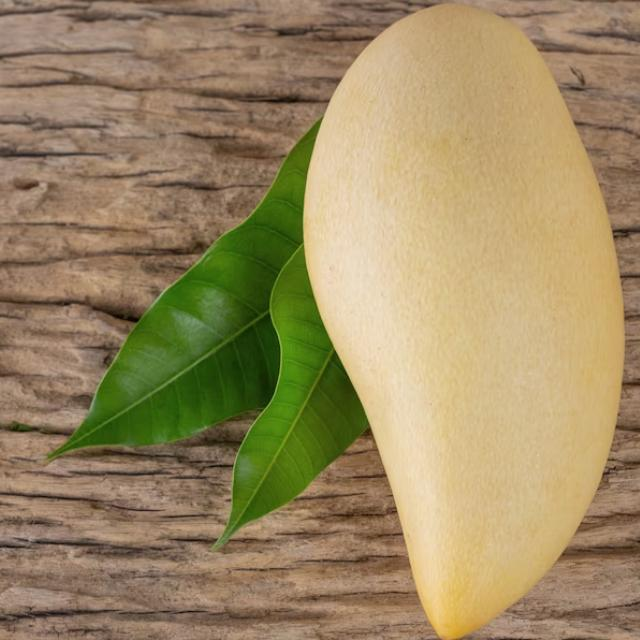mango: (301, 0, 626, 640)
